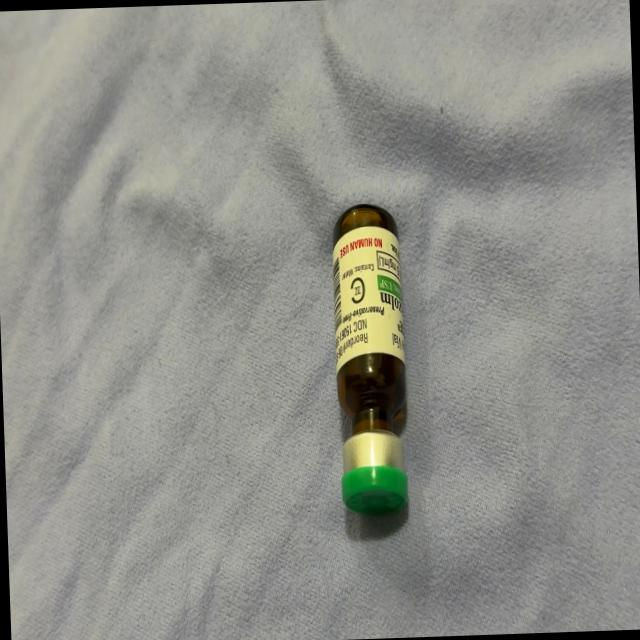midazolm: (331, 208, 410, 510)
